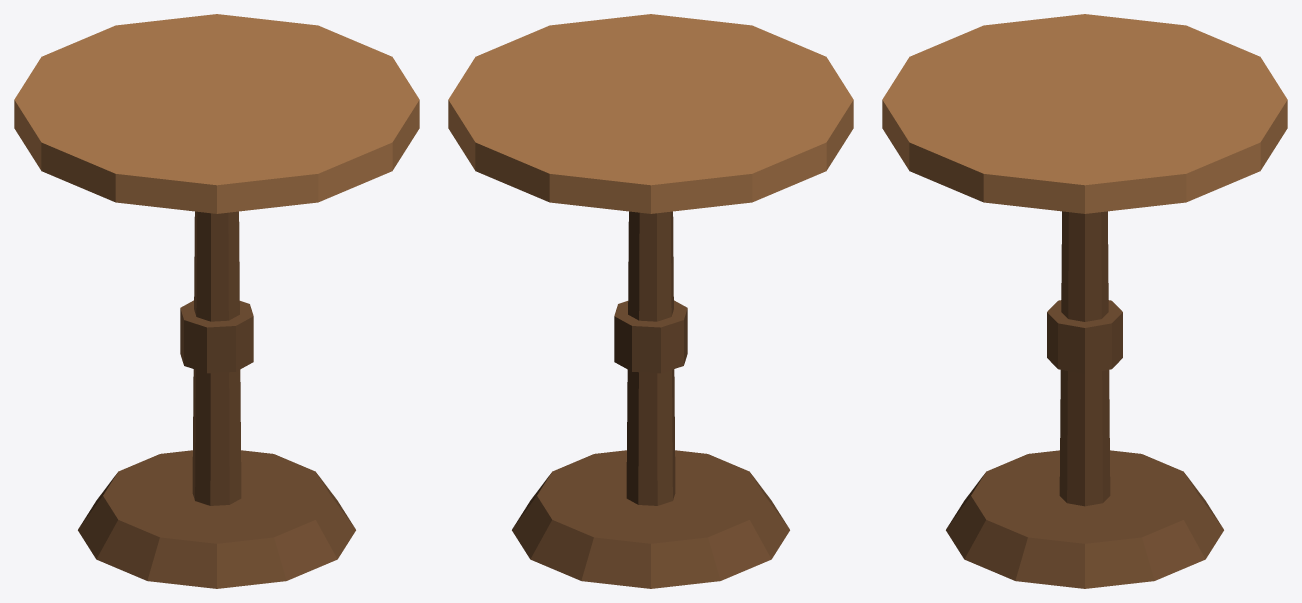
Rendered from side-table.glb.
3 renders of one model, left to right at view 1: azimuth 30°, elevation 25°; view 2: azimuth 150°, elevation 25°; view 3: azimuth 270°, elevation 25°, orthographic.
Parts seen in each view (by area): view 1: model; view 2: model; view 3: model.
Boxes of the visible parts, box(x1,y1,x2,y2) form: model: box(14, 14, 419, 588); model: box(448, 14, 853, 588); model: box(882, 14, 1287, 588).
Size of the model in its own units: 0.64 by 0.75 by 0.64.
